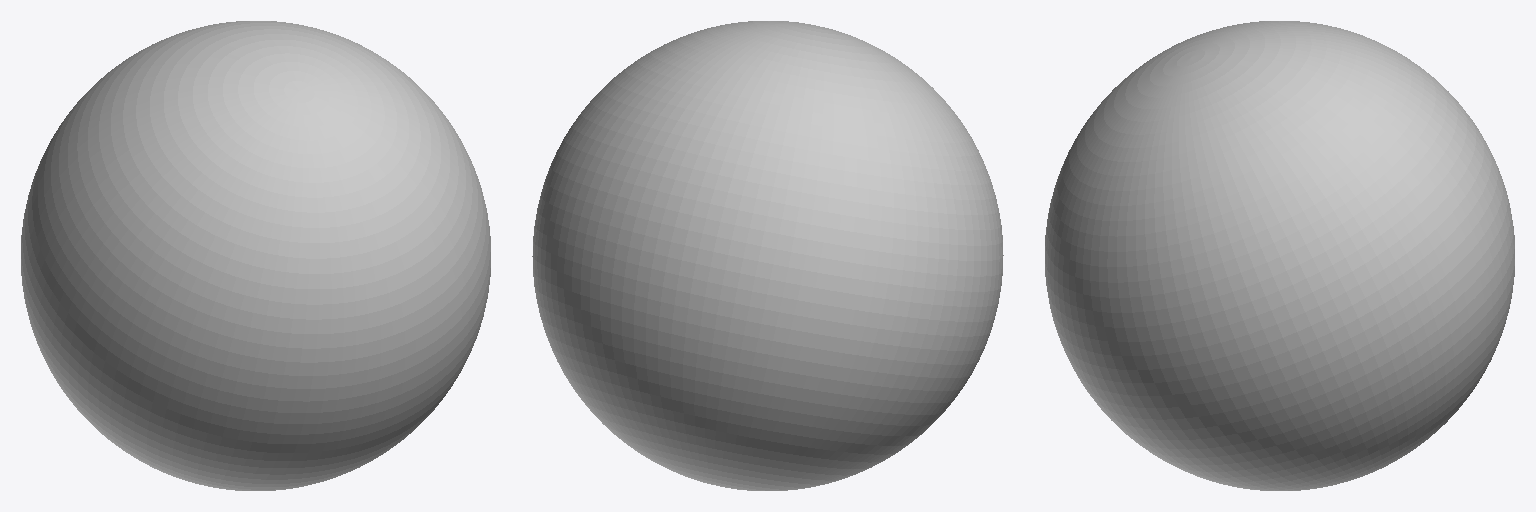
The model's file is EARTH_obj.obj.
The picture shows the model from 3 angles: view 1: azimuth 30°, elevation 25°; view 2: azimuth 150°, elevation 25°; view 3: azimuth 270°, elevation 25°; orthographic projection.
Visible parts, largest first — view 1: _____ ______; view 2: _____ ______; view 3: _____ ______.
Part boxes in pixels (x1,y1,x2,y2): _____ ______: (21, 21, 490, 490); _____ ______: (532, 21, 1003, 490); _____ ______: (1045, 21, 1514, 490).
Size of the model in its own units: 1014 by 1014 by 1014.